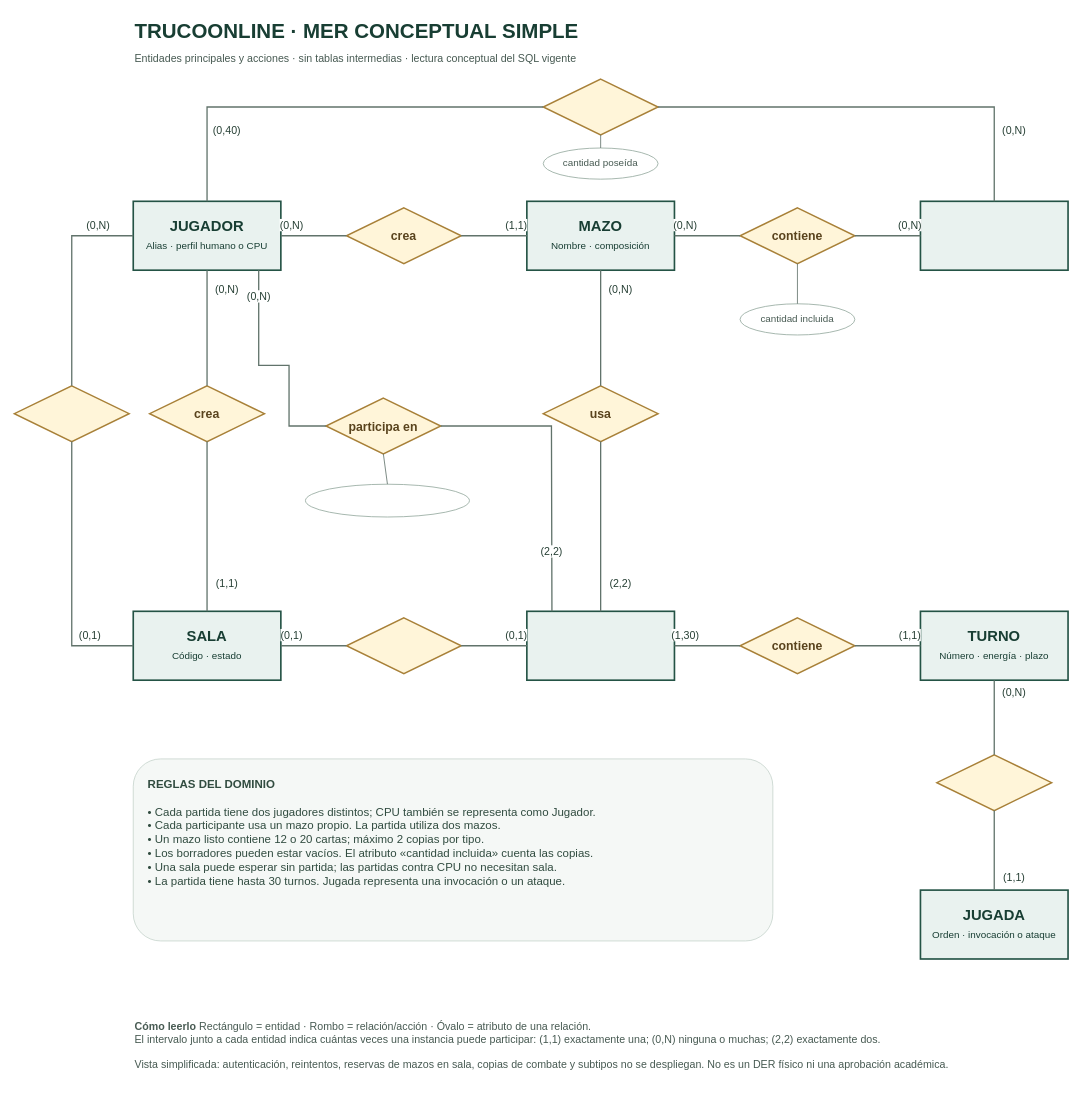
The diagram is 1083 pixels wide and 1109 high, and some of its shapes have lost their labels. The shapes that lost their labels are listed below. From the top down, each one's centre as x and y in pixels, then its label:
At (x=600, y=106): "colecciona".
At (x=993, y=235): "CARTA Tipo del catálogo · estadísticas".
At (x=71, y=413): "se une a".
At (x=387, y=500): "posición · vida del héroe".
At (x=403, y=645): "origina".
At (x=600, y=645): "PARTIDA Modalidad · inicio · resultado".
At (x=994, y=782): "registra".
